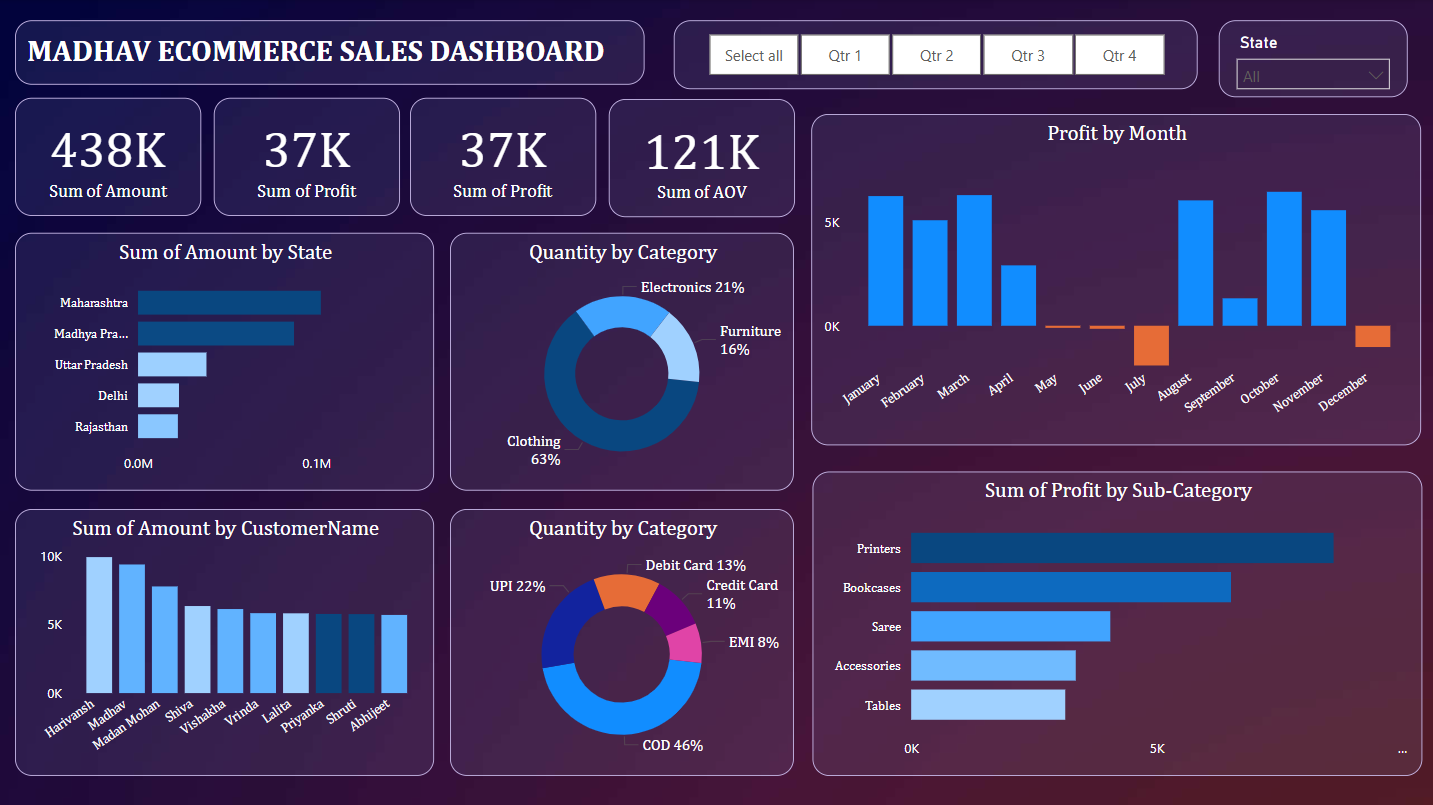

Layout of this report page (visuals, bound fields, positions):
{"tool":"powerbi","page":{"name":"Page 1","canvas":[1280,720],"ordinal":0},"visuals":[{"type":"textbox","box":[13.7,19.2,562.6,57.6],"z":0},{"type":"columnChart","title":"Profit by Month","fields":{"Category":["Orders.Order Date.Variation.Date Hierarchy.Month"],"Y":["Details.Profit"]},"box":[724.5,102.9,544.8,296.4],"z":1000},{"type":"barChart","fields":{"Category":["Details.Sub-Category"],"Y":["Details.Profit"]},"box":[725.9,422.6,544.8,271.7],"z":2000},{"type":"donutChart","title":" Quantity by Category","fields":{"Category":["Details.Category"],"Y":["Details.Quantity"]},"box":[402.1,208.6,307.4,230.5],"z":3000},{"type":"donutChart","title":" Quantity by Category","fields":{"Y":["Details.Quantity"],"Category":["Details.PaymentMode"]},"box":[402.1,455.6,307.4,238.8],"z":4000},{"type":"card","fields":{"Values":["Details.Amount"]},"box":[13.7,87.8,166,105.7],"z":4001},{"type":"card","fields":{"Values":["Details.AOV"]},"box":[543.4,89.2,166,105.7],"z":4002},{"type":"card","fields":{"Values":["Details.Profit"]},"box":[366.4,87.8,166,105.7],"z":4003},{"type":"card","fields":{"Values":["Details.Profit"]},"box":[190.7,87.8,166,105.7],"z":4004},{"type":"barChart","fields":{"Category":["Orders.State"],"Y":["Details.Amount"]},"box":[13.7,208.6,374.6,230.5],"z":4005},{"type":"columnChart","fields":{"Category":["Orders.CustomerName"],"Y":["Details.Amount"]},"box":[13.7,455.6,374.6,238.8],"z":4006},{"type":"slicer","fields":{"Values":["Orders.Order Date.Variation.Date Hierarchy.Quarter"]},"box":[602.4,19.2,467.9,61.7],"z":4007},{"type":"slicer","fields":{"Values":["Orders.State"]},"box":[1088.2,19.2,168.8,68.6],"z":4008}]}

Visuals, with their boxes in screenshot pixels (x1, y1, x2, y2), scaled from the page's 1280x720 canvas onto the 1433x805 screenshot:
textbox: <box>15,21,645,86</box>
"Profit by Month" columnChart: <box>811,115,1421,446</box>
barChart - Details.Sub-Category x Details.Profit: <box>813,472,1423,776</box>
" Quantity by Category" donutChart: <box>450,233,794,491</box>
" Quantity by Category" donutChart: <box>450,509,794,776</box>
card - Details.Amount: <box>15,98,201,216</box>
card - Details.AOV: <box>608,100,794,218</box>
card - Details.Profit: <box>410,98,596,216</box>
card - Details.Profit: <box>213,98,399,216</box>
barChart - Orders.State x Details.Amount: <box>15,233,435,491</box>
columnChart - Orders.CustomerName x Details.Amount: <box>15,509,435,776</box>
slicer - Orders.Order Date.Variation.Date Hierarchy.Quarter: <box>674,21,1198,90</box>
slicer - Orders.State: <box>1218,21,1407,98</box>
